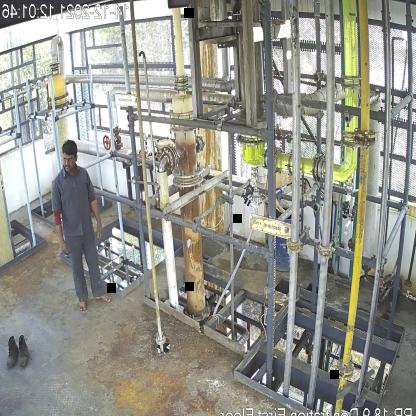no_shoes: (91, 285, 114, 308), (76, 286, 89, 318)
shoes: (16, 330, 34, 375), (2, 332, 16, 374)
